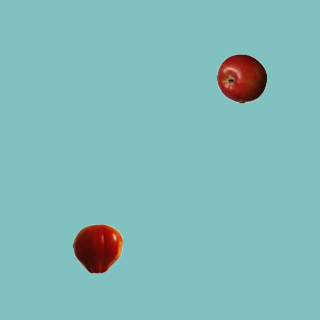Apple Braeburn: (216, 53, 266, 103)
Tomato 1: (72, 223, 122, 273)
